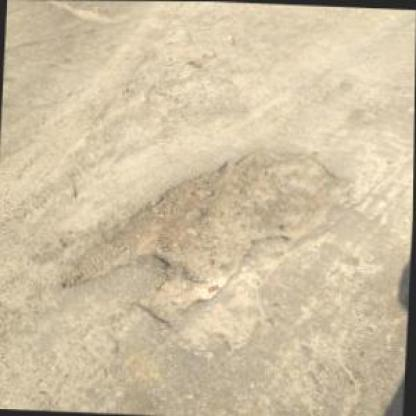pothole: (56, 136, 360, 335)
